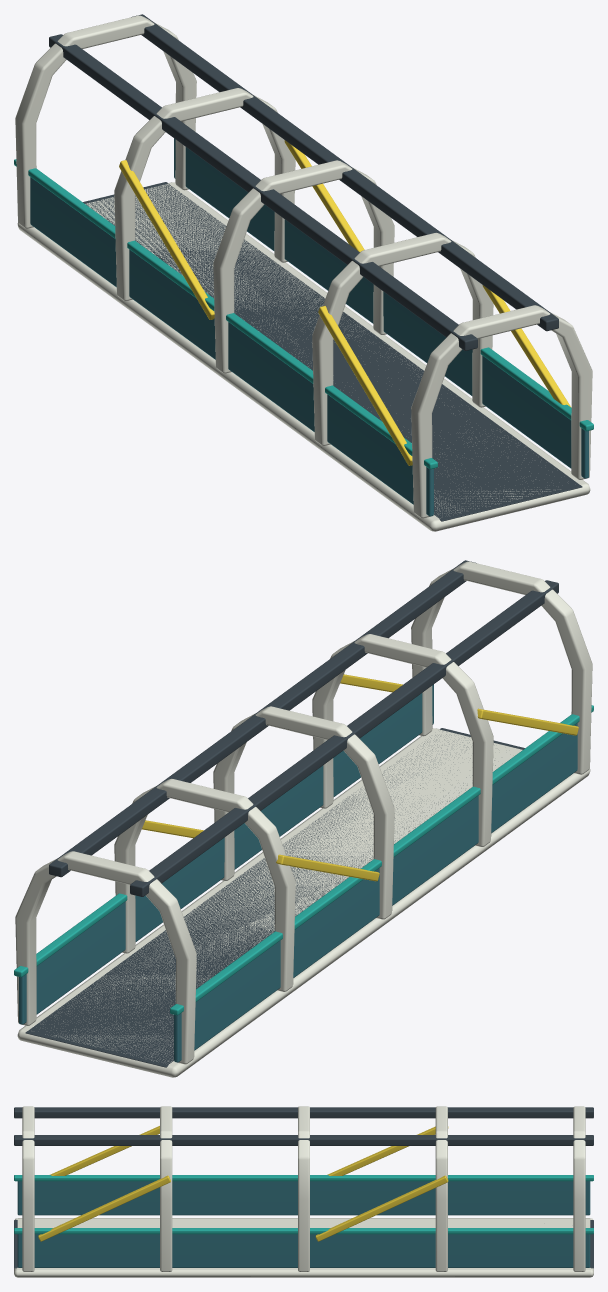
The model's file is aster_skybridge.glb.
3 renders of one model, top to bottom at view 1: azimuth 30°, elevation 25°; view 2: azimuth 150°, elevation 25°; view 3: azimuth 270°, elevation 25°, orthographic. The views are drawn at different scales.
Parts seen in each view (by area): view 1: aster_skybridge; view 2: aster_skybridge; view 3: aster_skybridge.
Part boxes in pixels (x1,y1,x2,y2): aster_skybridge: (14,14,593,531); aster_skybridge: (14,560,593,1077); aster_skybridge: (14,1106,593,1277).
Bounding box in the file's own units: 3.88 × 4.05 × 16.
